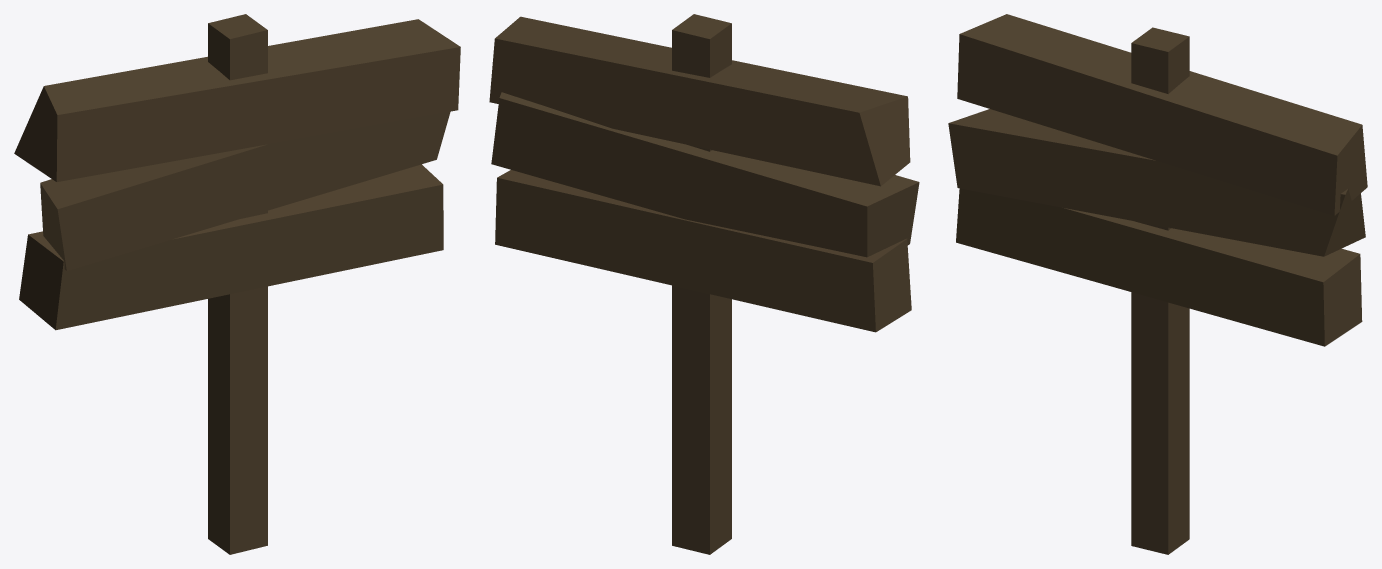
The model's file is wooden_sign_-_low_poly.glb.
3 renders of one model, left to right at view 1: azimuth 30°, elevation 25°; view 2: azimuth 150°, elevation 25°; view 3: azimuth 330°, elevation 25°, orthographic. The views are drawn at different scales.
Visible parts, largest first — view 1: Cube; view 2: Cube; view 3: Cube.
Boxes of the visible parts, x1,y1,x2,y2 form: Cube: (14, 14, 460, 554); Cube: (489, 14, 919, 554); Cube: (948, 14, 1367, 554).
Size of the model in its own units: 214 by 260 by 39.65.
